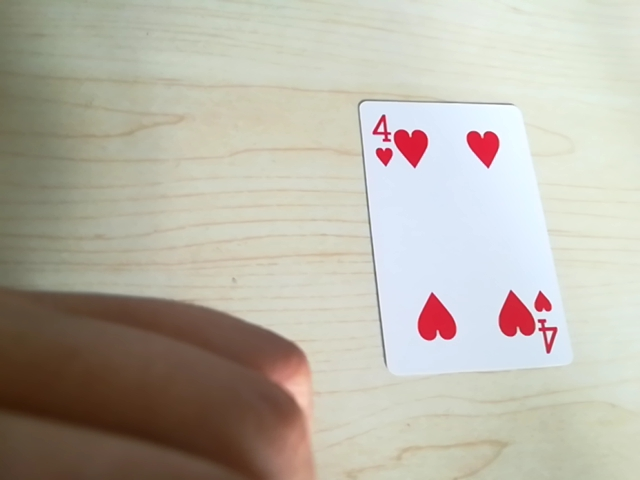hx 4: (367, 112, 420, 176), (518, 293, 560, 356)
